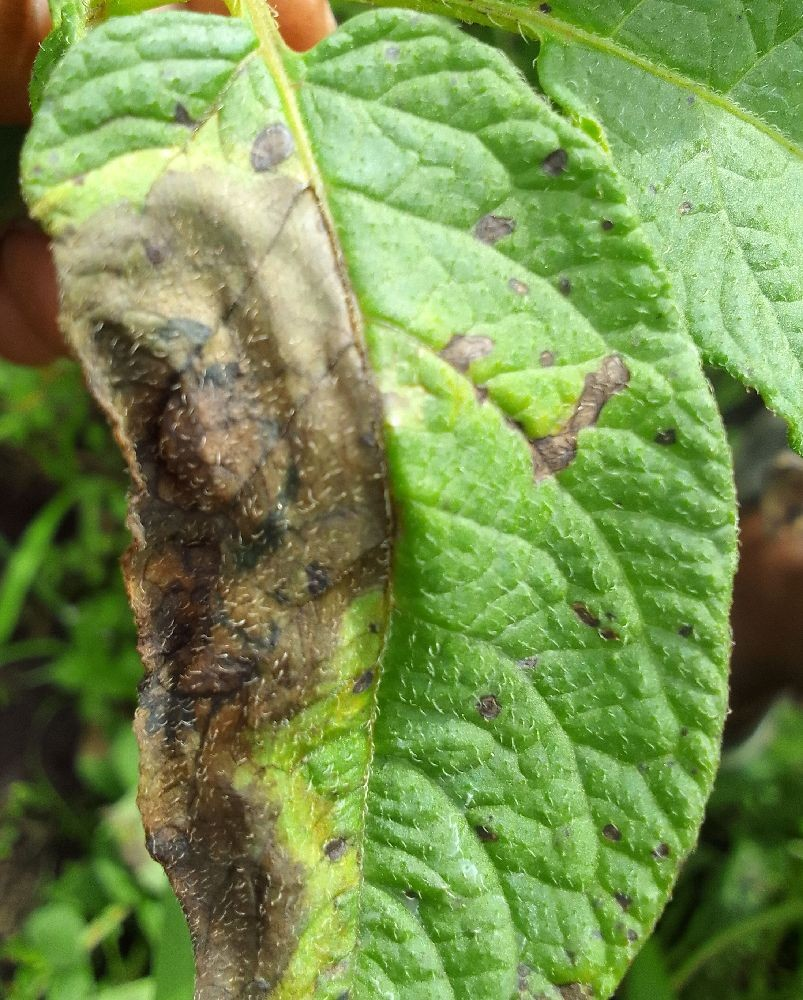late_blight: (0, 175, 423, 999), (674, 345, 803, 814), (0, 0, 69, 154)
